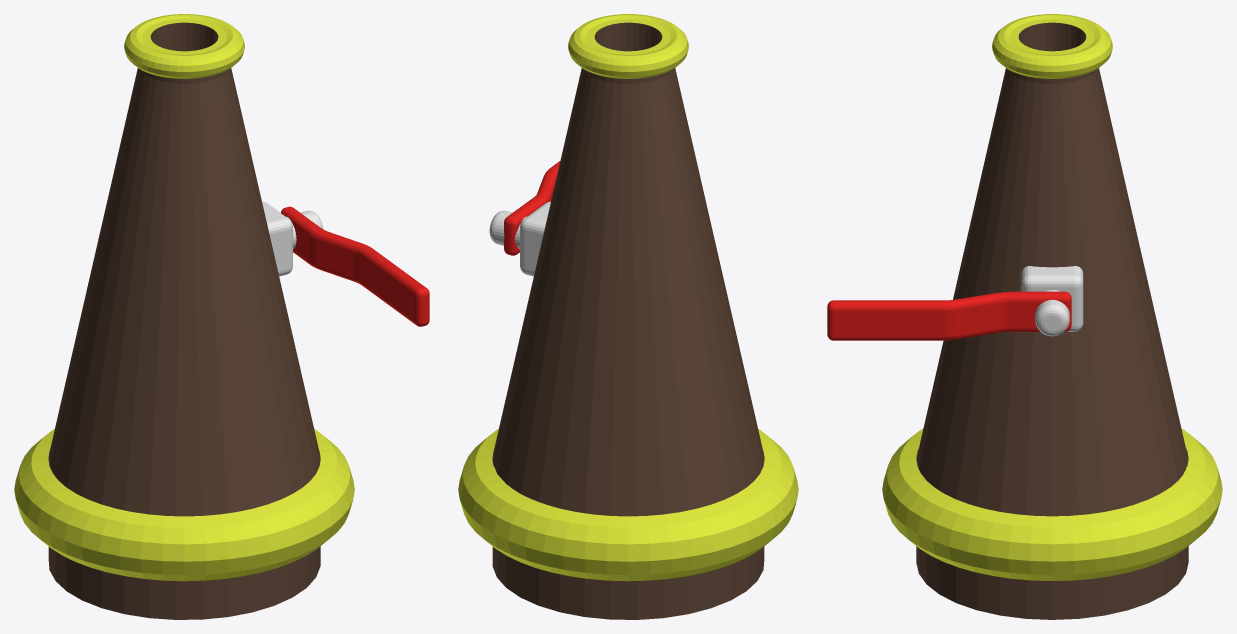
File: chlang.fbx
3 views of the same model, side by side, from view 1: azimuth 30°, elevation 25°; view 2: azimuth 150°, elevation 25°; view 3: azimuth 270°, elevation 25° (orthographic).
Parts seen in each view (by area): view 1: Cylinder, Cube.001, Cube; view 2: Cylinder, Cube, Cube.001; view 3: Cylinder, Cube.001, Cube.
Boxes of the visible parts, left/top/right/bottom form: Cylinder: left=14, top=14, right=354, bottom=619; Cube.001: left=281, top=206, right=429, bottom=326; Cube: left=262, top=201, right=323, bottom=276; Cylinder: left=458, top=14, right=798, bottom=619; Cube: left=489, top=201, right=550, bottom=276; Cube.001: left=504, top=161, right=560, bottom=255; Cylinder: left=882, top=14, right=1222, bottom=619; Cube.001: left=827, top=291, right=1071, bottom=340; Cube: left=1021, top=266, right=1083, bottom=336.
Bounding box in the file's own units: 250 × 427 × 290.
